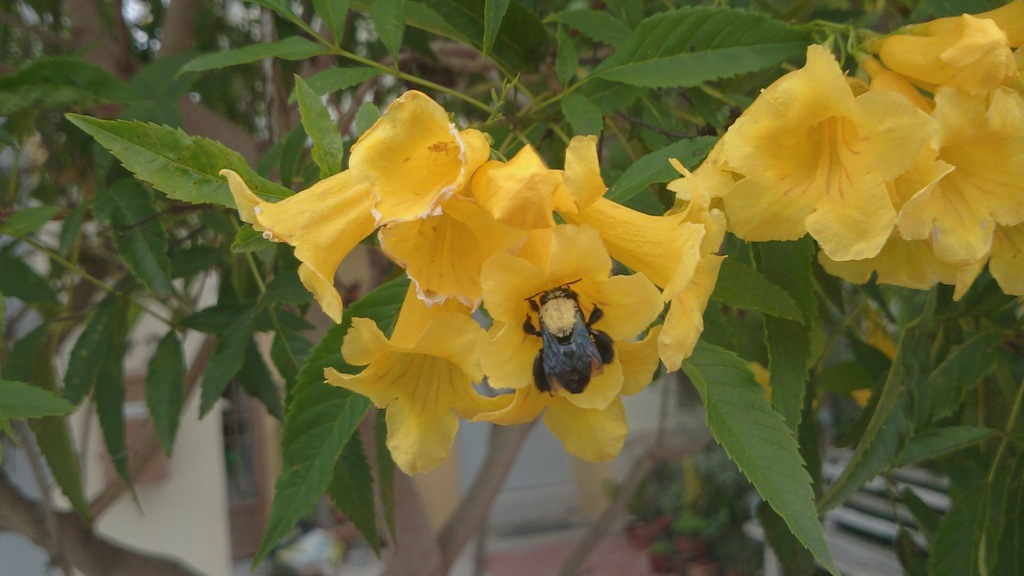not_bumblebee: (522, 279, 617, 397)
